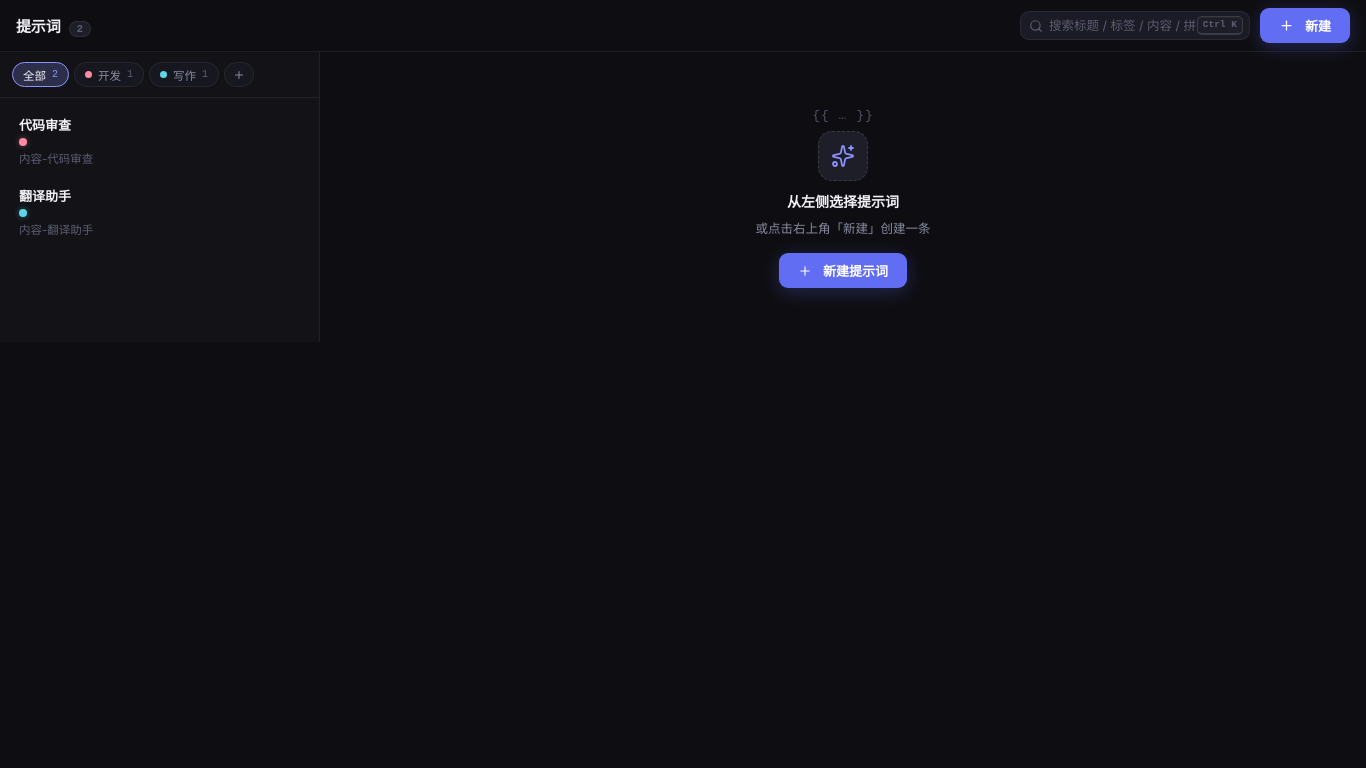
Test: PromptsPane：提示词管理 › 点击列表项载入草稿并高亮
Step 1. Click the element showing "代码审查 内容-代码审查" → (45, 125), box [19,117,93,166]
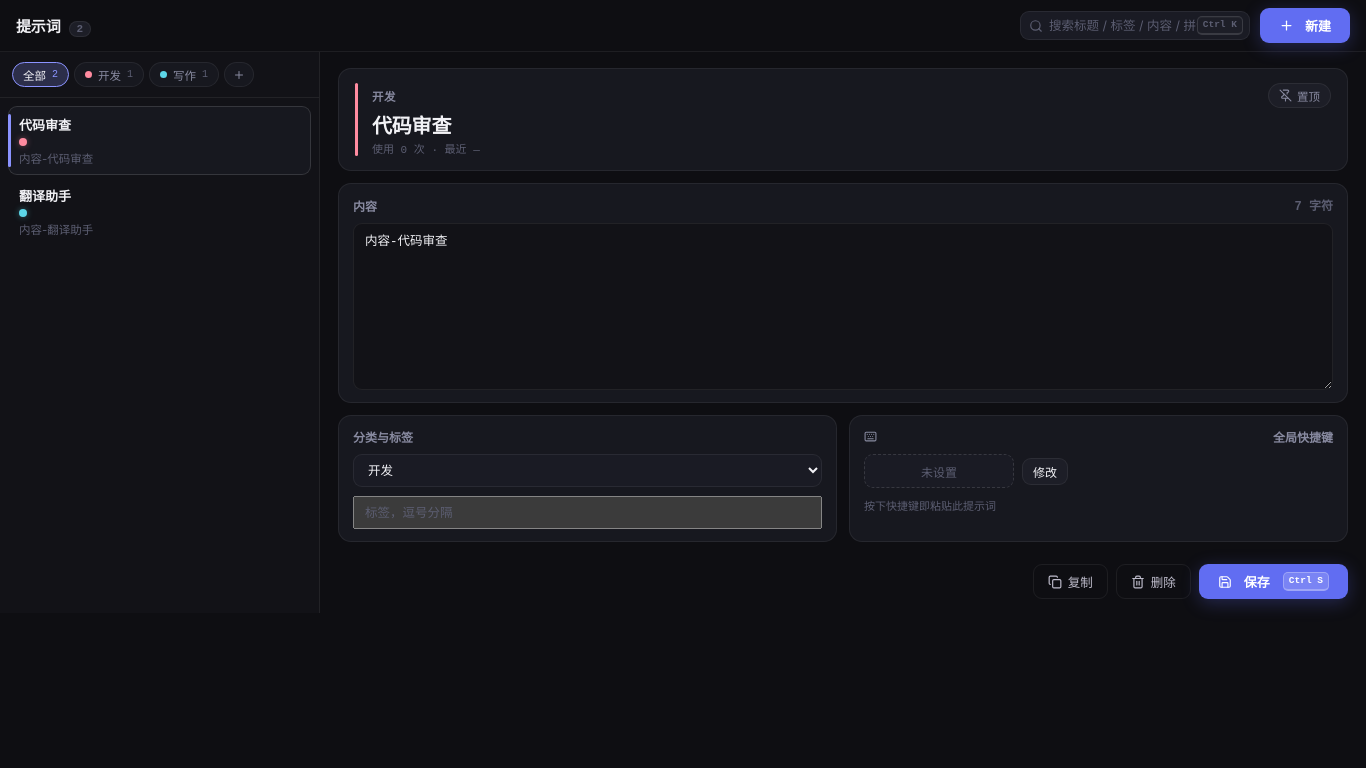
Check: the element showing "代码审查 内容-代码审查" is shown, box [8,106,311,175]
Check: the field with class "d-title" holds "代码审查", box [372,108,675,138]
